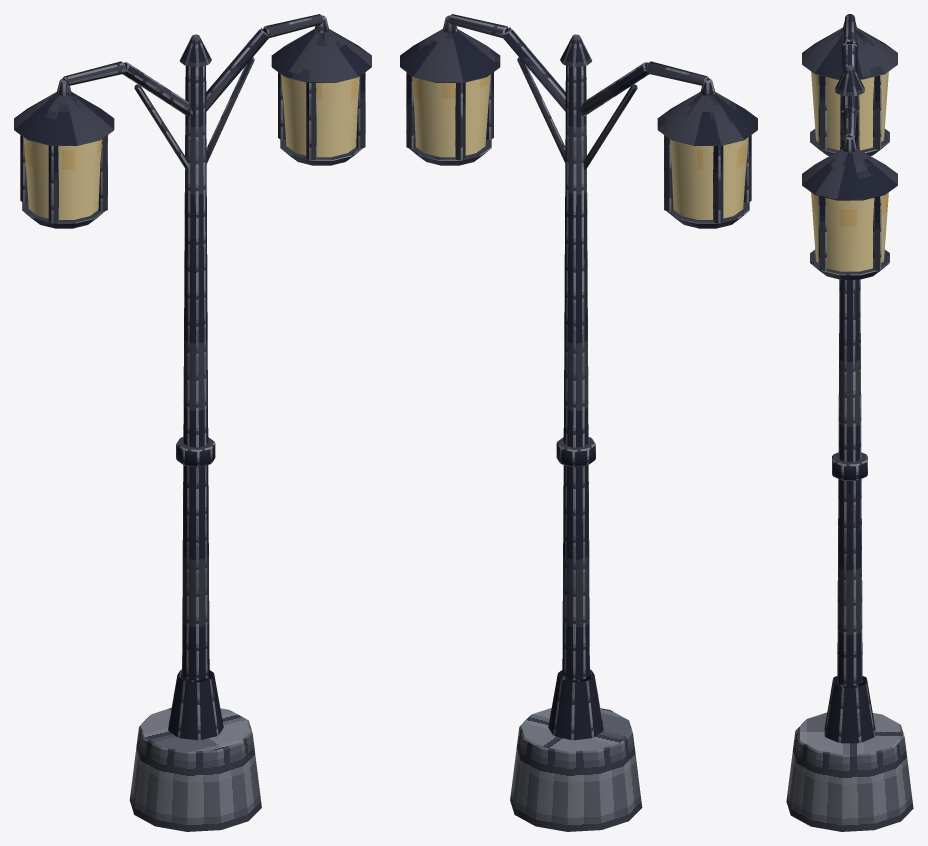
File: street_lamp_4.glb
3 views of the same model, side by side, from view 1: azimuth 30°, elevation 25°; view 2: azimuth 150°, elevation 25°; view 3: azimuth 270°, elevation 25° (orthographic). The views are drawn at different scales.
Visible parts, largest first — view 1: street_lamp_5; view 2: street_lamp_5; view 3: street_lamp_5.
Part boxes in pixels (x1=…): street_lamp_5: x1=14, y1=14, x2=371, y2=831; street_lamp_5: x1=400, y1=14, x2=757, y2=831; street_lamp_5: x1=786, y1=14, x2=913, y2=831.
Bounding box in the file's own units: 1.67 × 3.56 × 0.5552.
Materials: 3 (3 with a texture image).
